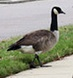goose: (8, 5, 68, 73)
